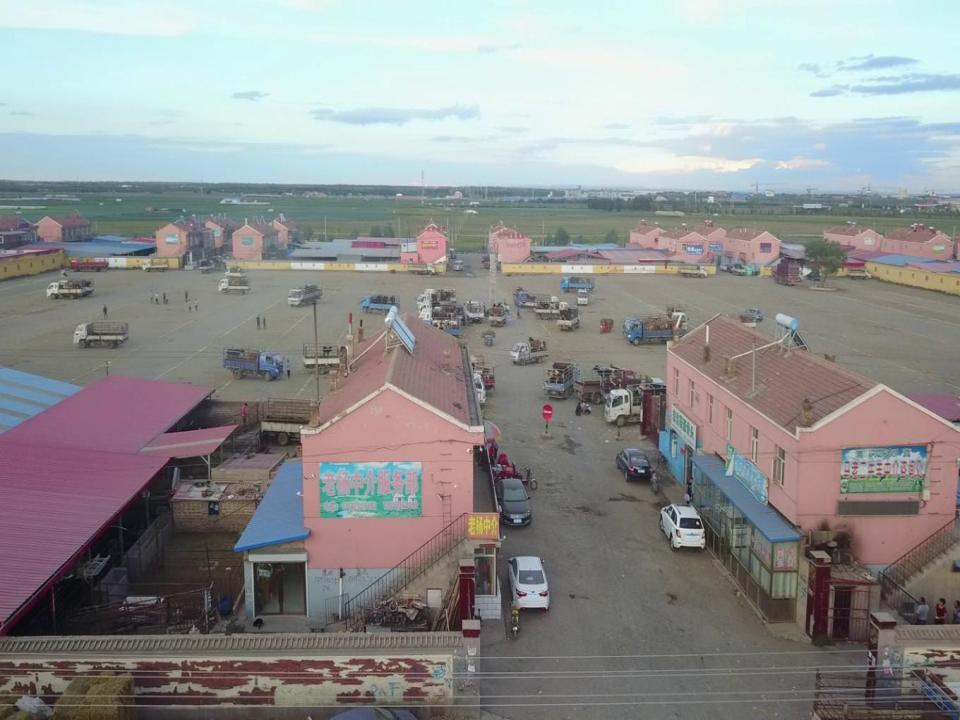car: (506, 554, 550, 613), (659, 502, 707, 552), (492, 476, 532, 527), (616, 448, 652, 483)
truck: (262, 399, 343, 447), (604, 384, 686, 425), (574, 365, 638, 405), (423, 373, 485, 408), (223, 347, 283, 382), (432, 362, 496, 393), (304, 342, 364, 374), (541, 360, 583, 399), (624, 316, 677, 344), (73, 323, 128, 349), (430, 354, 485, 379), (509, 335, 550, 366), (419, 301, 465, 325), (417, 320, 462, 343), (418, 313, 459, 335), (420, 308, 464, 328), (287, 283, 323, 307), (359, 295, 401, 315), (57, 278, 95, 298), (416, 292, 456, 310), (666, 303, 687, 337), (46, 282, 85, 300), (525, 294, 559, 312), (424, 288, 457, 306), (534, 302, 571, 318), (558, 308, 582, 331), (70, 256, 108, 270), (560, 278, 594, 292), (218, 278, 251, 292), (464, 299, 483, 322), (489, 303, 506, 327), (511, 287, 530, 308), (225, 266, 249, 280), (142, 259, 170, 271)
